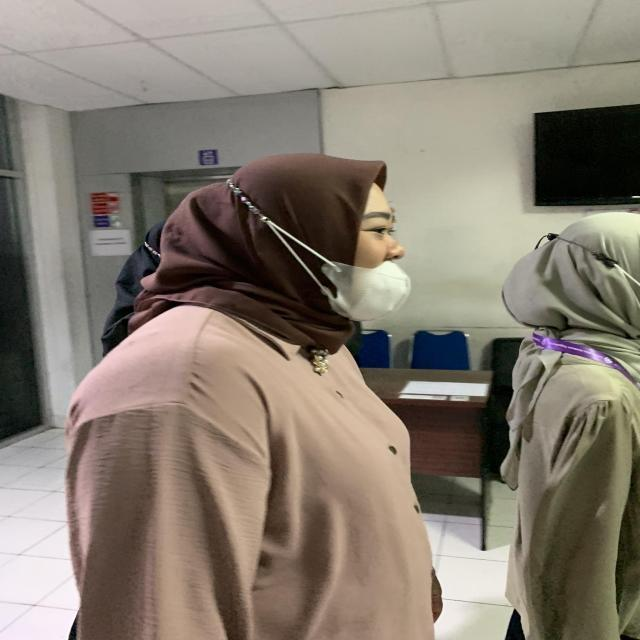hairnet: (176, 153, 446, 338)
